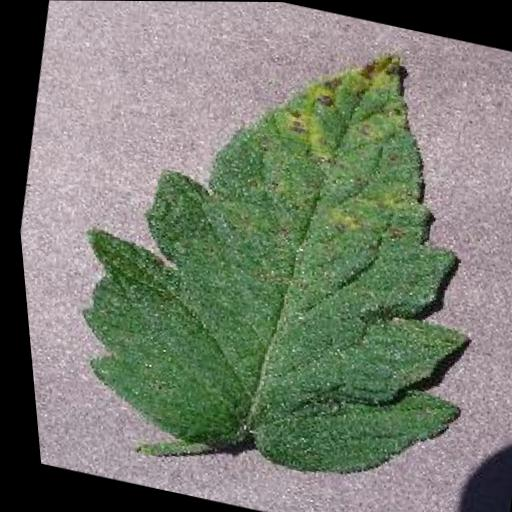Septoria: (25, 0, 512, 504)
